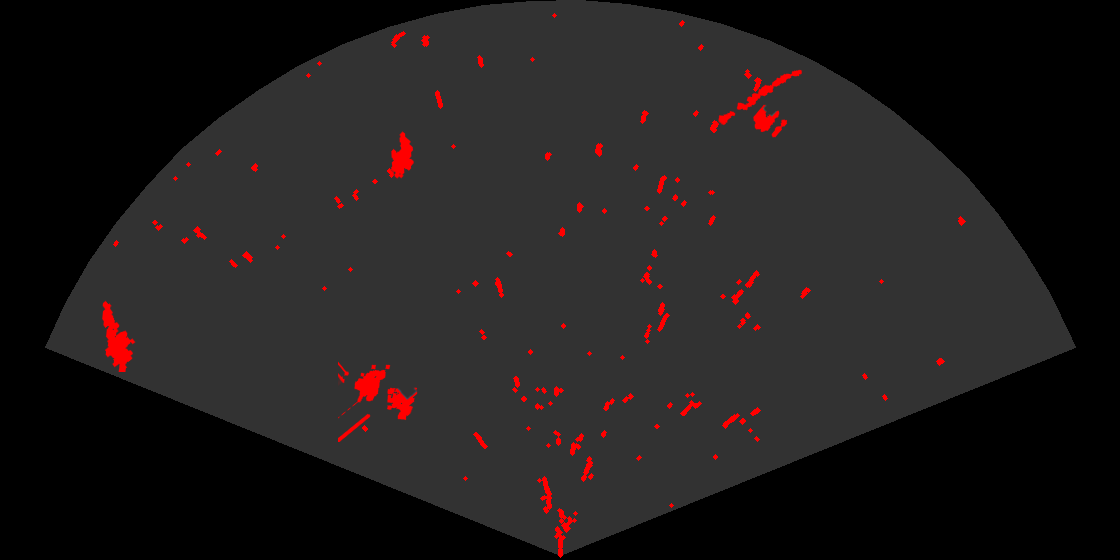AUV: (390, 130, 415, 180)
ball: (752, 103, 789, 139)
cage: (338, 360, 419, 442)
chain: (717, 68, 804, 127)
frogman: (101, 299, 137, 372)
